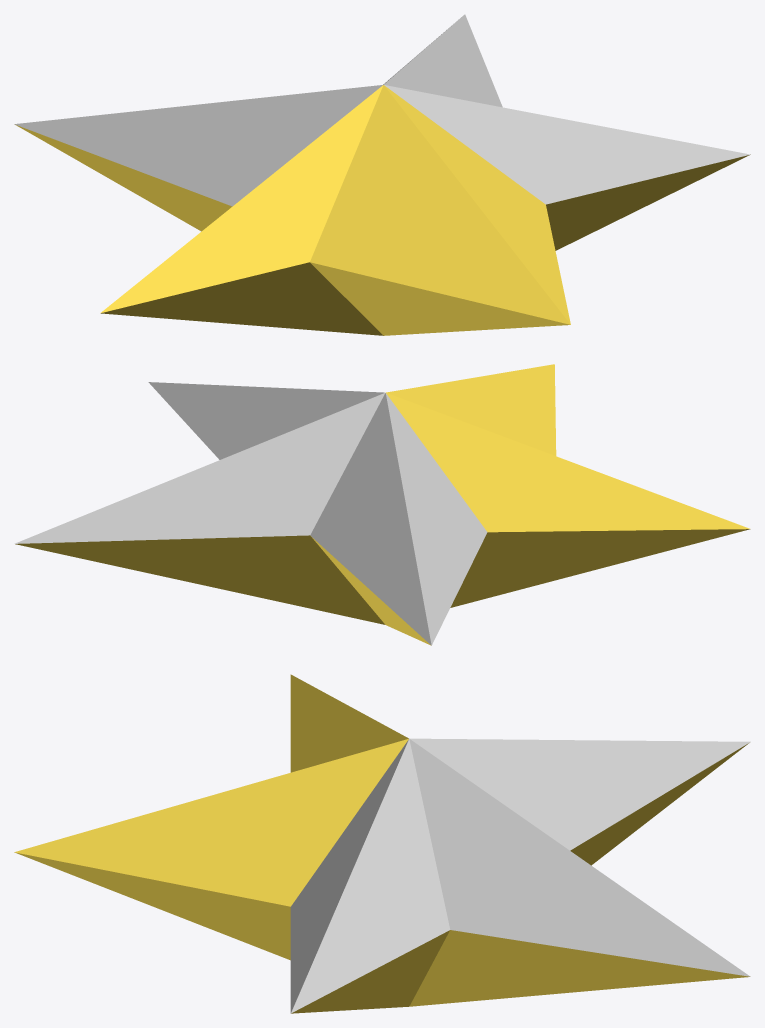
The model's file is star_model.gltf.
3 views of the same model, one above another, from view 1: azimuth 30°, elevation 25°; view 2: azimuth 150°, elevation 25°; view 3: azimuth 270°, elevation 25° (orthographic). The views are drawn at different scales.
Size of the model in its own units: 60.91 by 22.45 by 55.91.
